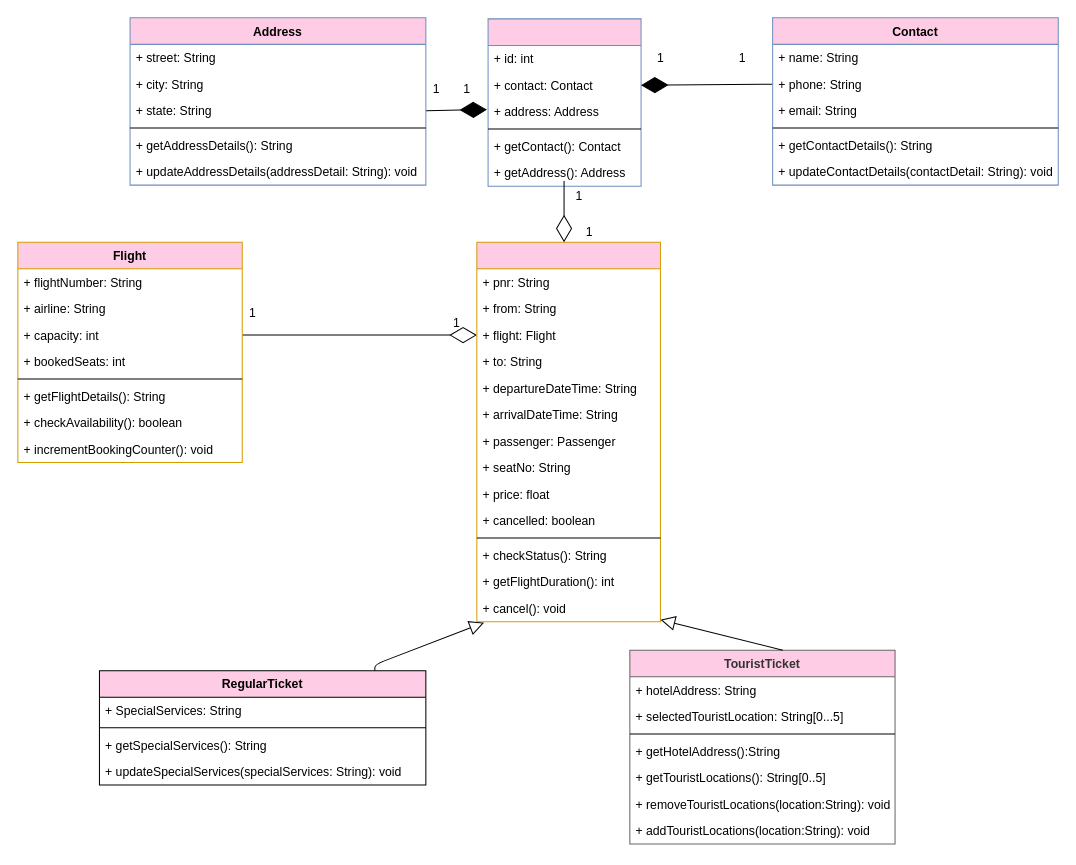
Image size: 1076x865. Some labels were removed from this diagram. The box of each missing label's shape, as (x1, y1, x2, y2) in pixels:
Passenger: (487, 18, 641, 186)
Ticket: (476, 241, 660, 622)
